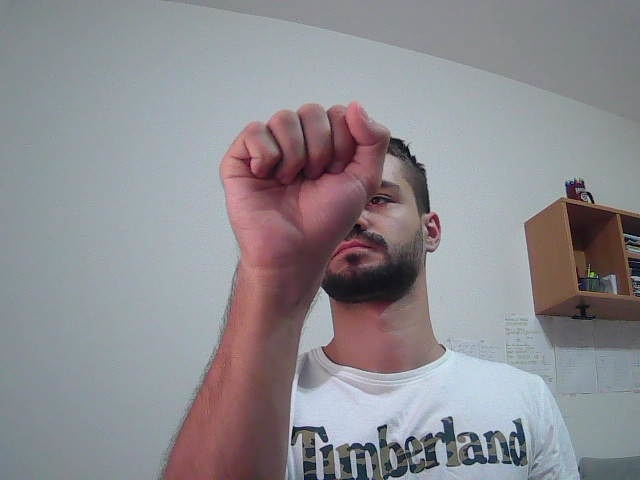a: (193, 88, 395, 409)
